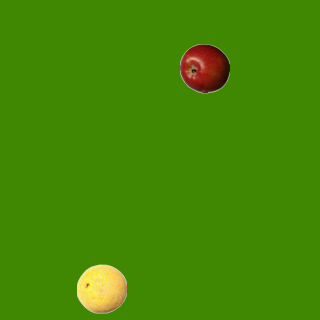Apple Braeburn: (179, 43, 229, 93)
Cantaloupe 1: (76, 263, 126, 313)
